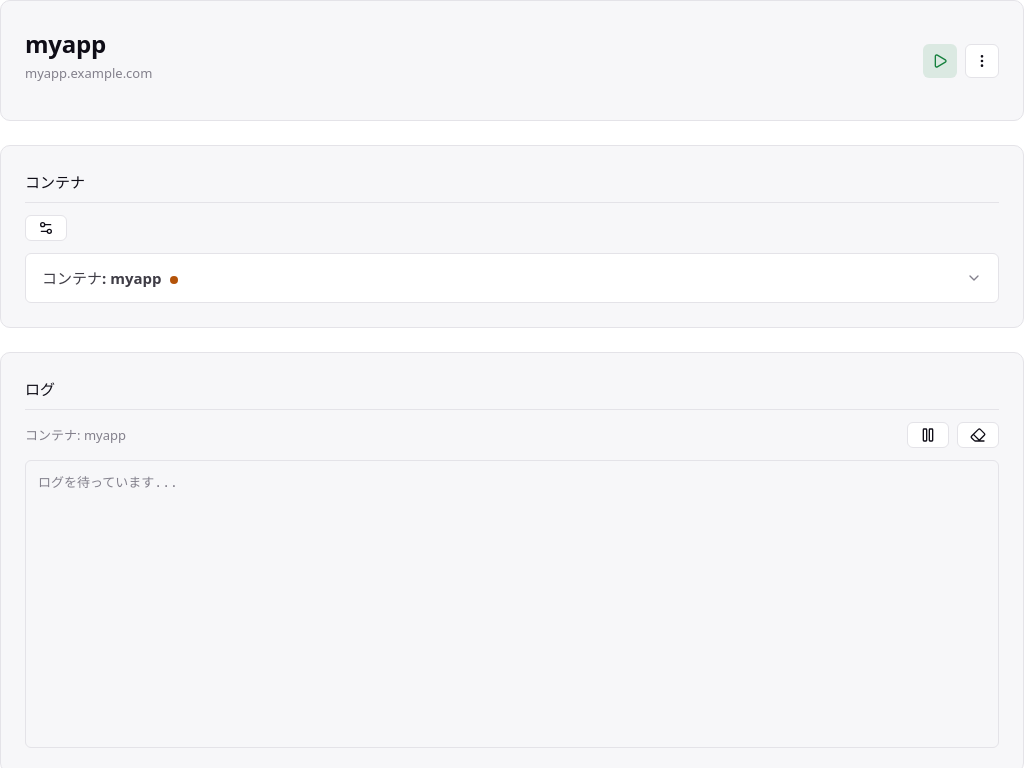
Scenario: ServiceDetailPage › 起動ボタンを押すとstartServiceを呼び、結果で表示を更新する
Click the button named "起動" at (940,61), box [923,44,957,78]
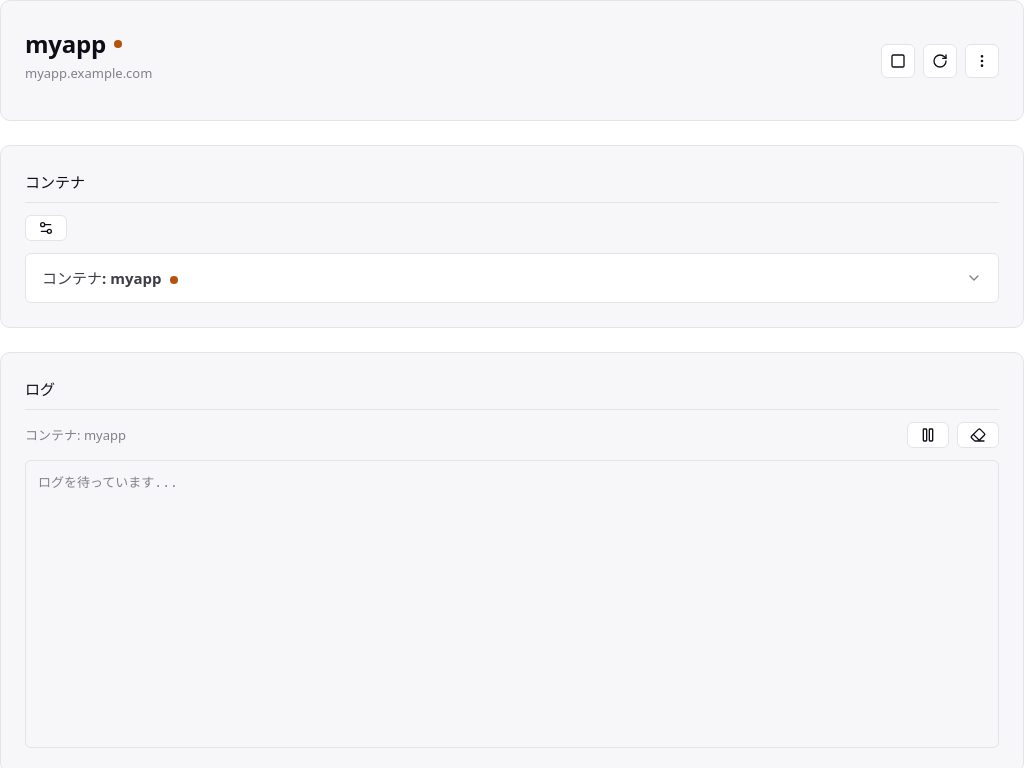
Now the button named "停止" is shown, box [881,44,915,78]
Now the button "起動" is gone
